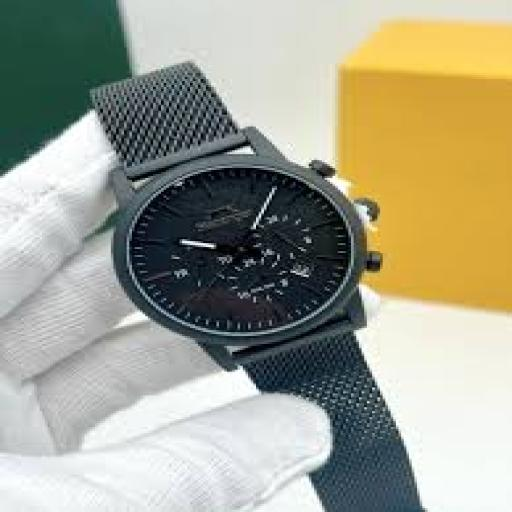KolSaati: (62, 50, 474, 512)
